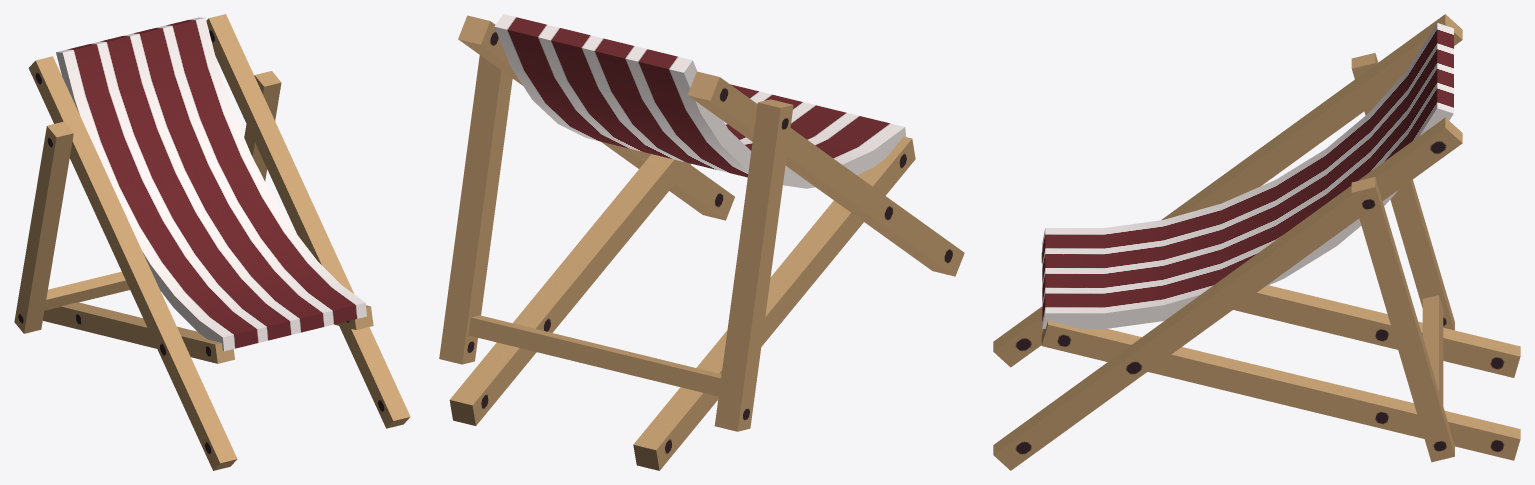
Rendered from beachChair.fbx.
3 renders of one model, left to right at view 1: azimuth 30°, elevation 25°; view 2: azimuth 150°, elevation 25°; view 3: azimuth 270°, elevation 25°, orthographic. The views are drawn at different scales.
Visible parts, largest first — view 1: Beach Chair; view 2: Beach Chair; view 3: Beach Chair.
Part boxes in pixels (x1,y1,x2,y2): Beach Chair: (14, 14, 410, 470); Beach Chair: (439, 14, 964, 470); Beach Chair: (993, 14, 1520, 470).
Bounding box in the file's own units: 130 × 157 × 215.
1 material, 1 textured.
